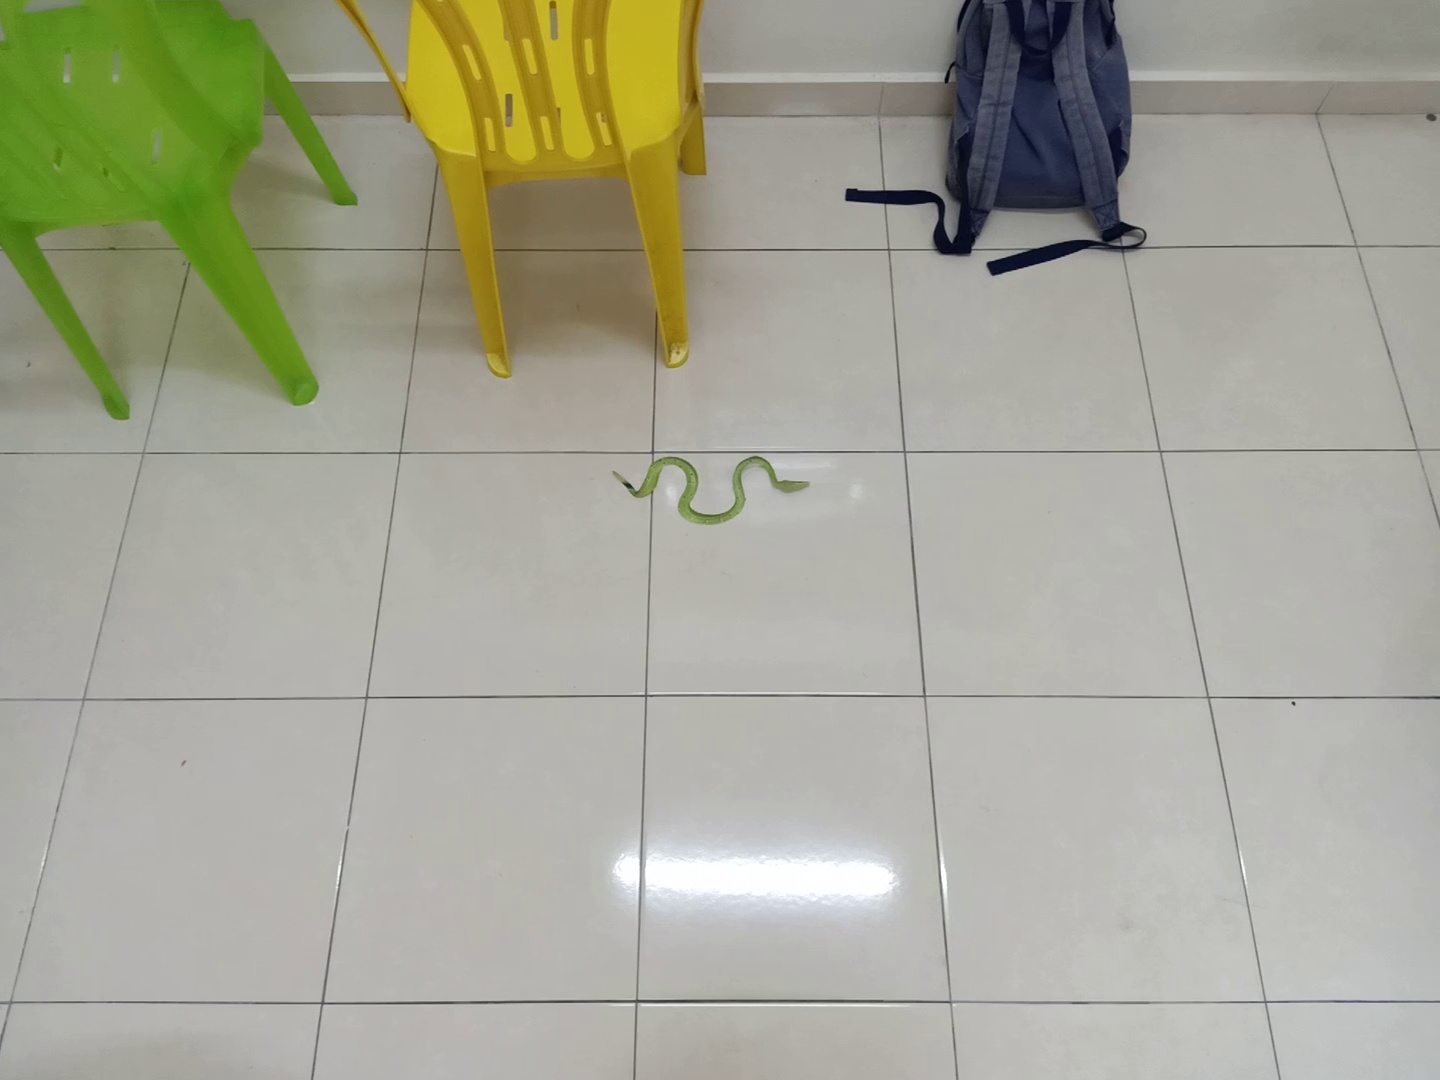snake: (605, 442, 821, 533)
